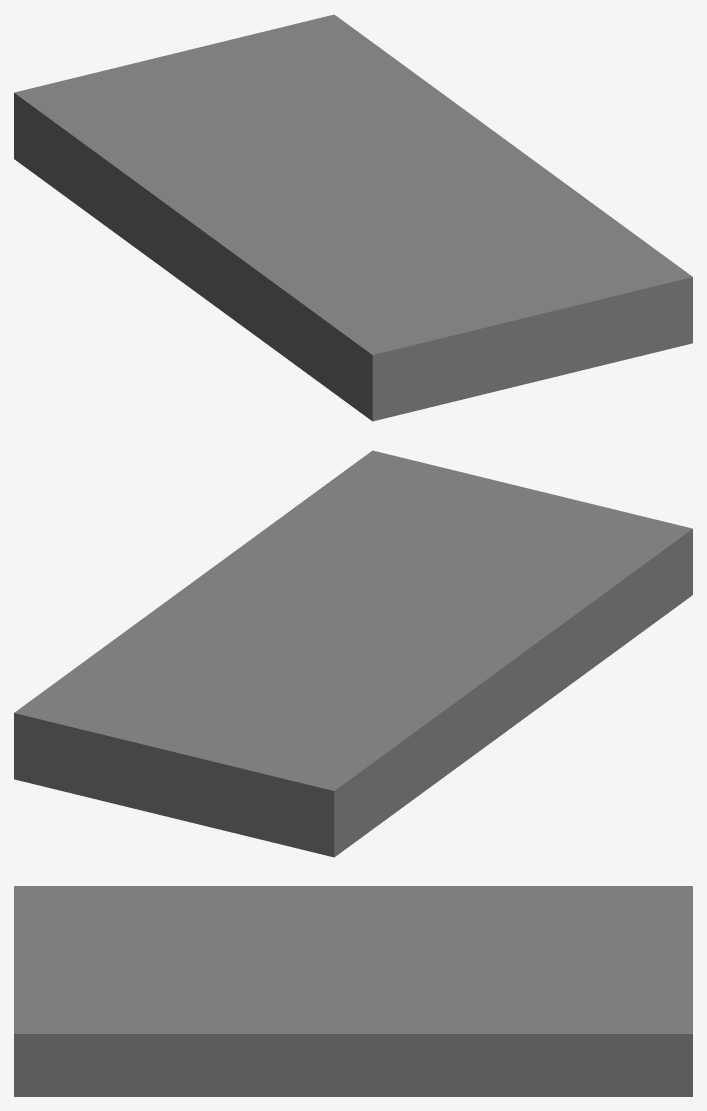
The model's file is SM_Prop_SmartPhone_01.obj.
3 renders of one model, top to bottom at view 1: azimuth 30°, elevation 25°; view 2: azimuth 150°, elevation 25°; view 3: azimuth 270°, elevation 25°, orthographic. The views are drawn at different scales.
Parts seen in each view (by area): view 1: SM_Prop_SmartPhone_01_Mat_PolygonCity_Texture_01_A; view 2: SM_Prop_SmartPhone_01_Mat_PolygonCity_Texture_01_A; view 3: SM_Prop_SmartPhone_01_Mat_PolygonCity_Texture_01_A.
Part boxes in pixels (box(x1,y1,x2,y2)): SM_Prop_SmartPhone_01_Mat_PolygonCity_Texture_01_A: box(14, 14, 692, 421); SM_Prop_SmartPhone_01_Mat_PolygonCity_Texture_01_A: box(14, 450, 692, 857); SM_Prop_SmartPhone_01_Mat_PolygonCity_Texture_01_A: box(14, 886, 692, 1096).
Size of the model in its own units: 0.1361 by 0.0269 by 0.2639.
Materials: 1 (1 with a texture image).
